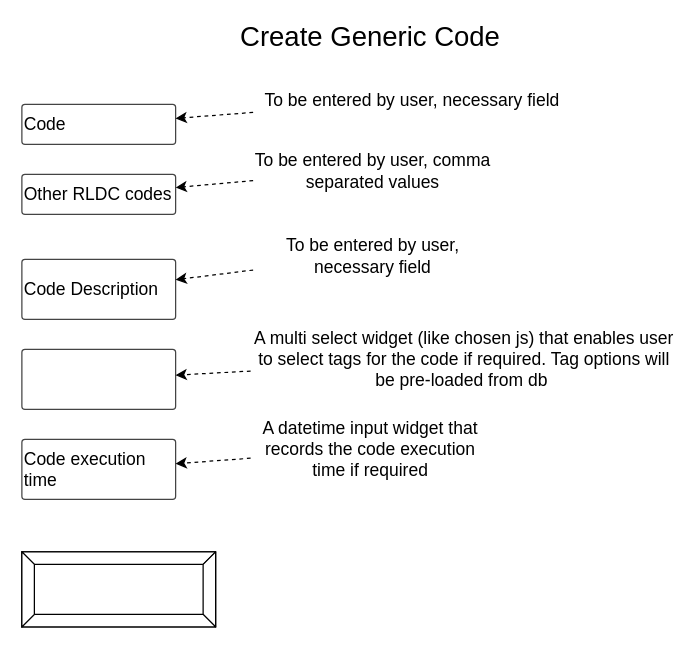
Some shapes in this 700 by 649 pixel diagram are drawn without their labels. Here are the shapes that lost their labels. From the top down, the box of each, then its label:
(21, 348, 176, 409): Code Tags
(21, 551, 216, 627): Create Code
